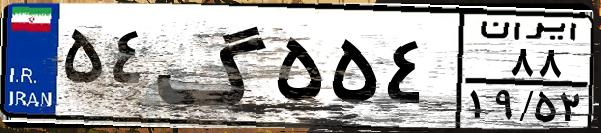1: (470, 70, 495, 125)
2: (560, 70, 590, 125)
4: (385, 28, 445, 110), (110, 28, 156, 98)
5: (270, 28, 330, 110), (330, 28, 385, 110), (57, 26, 110, 100), (535, 70, 560, 125)
8: (537, 27, 568, 80), (508, 27, 537, 80)
9: (495, 70, 520, 125)
گ: (156, 12, 270, 120)
